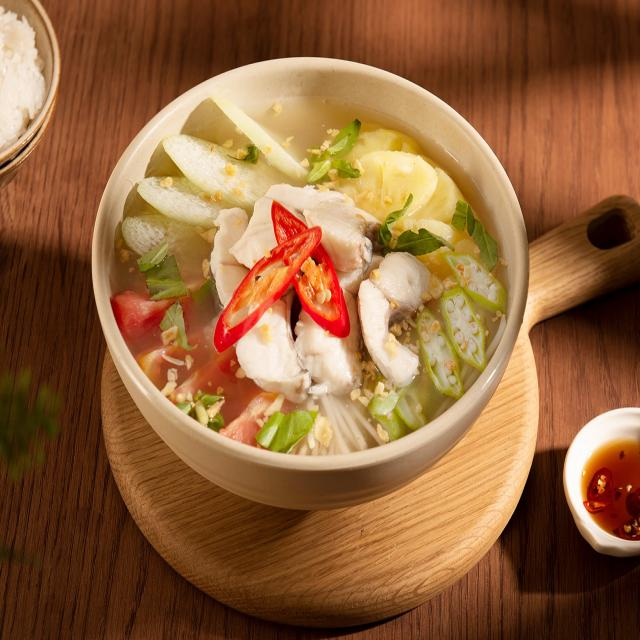canh chua: (110, 99, 506, 454)
ot: (214, 200, 350, 353)
